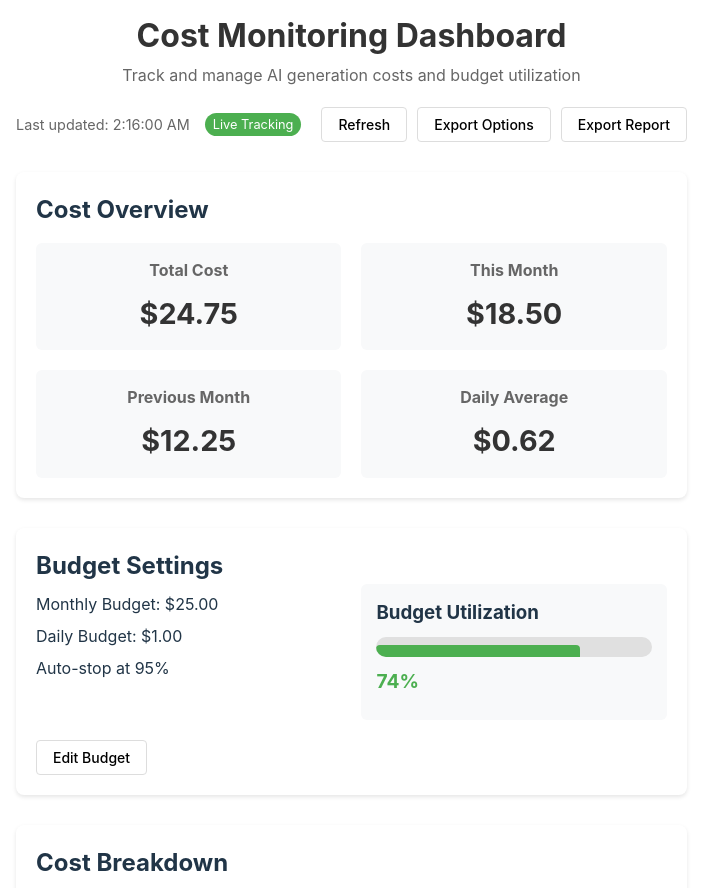
Test: CostMonitoring Component › Reporting and Export › should support different report formats
Click the button "Export Options" at coordinates (484, 125), box [417,107,551,142]
(page scrolled)
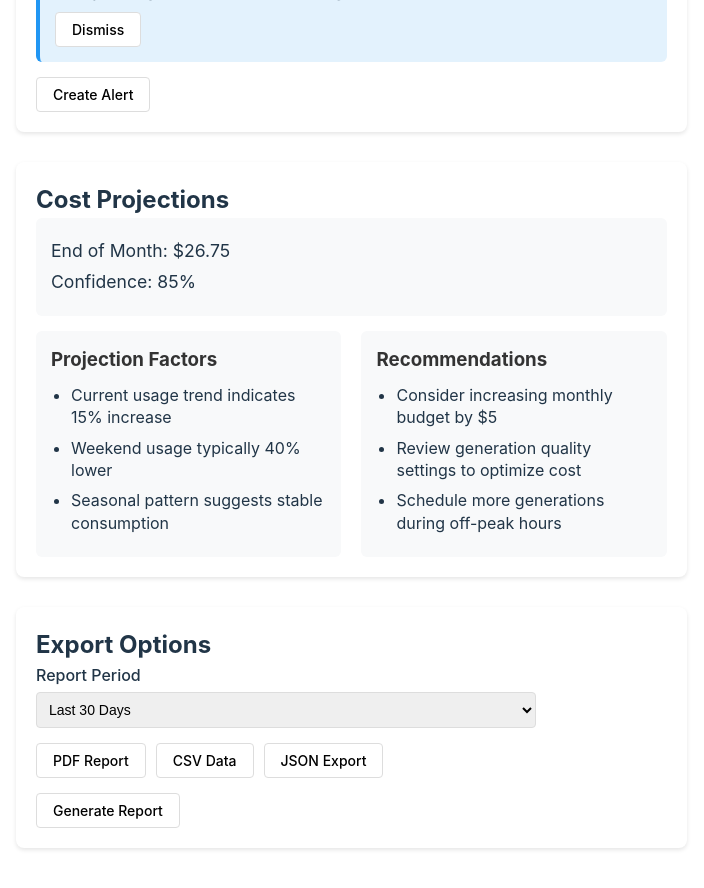
Expected: the button "PDF Report" is shown, [36,743,146,778]
Expected: the button "CSV Data" is shown, [156,743,254,778]
Expected: the button "JSON Export" is shown, [264,743,383,778]
